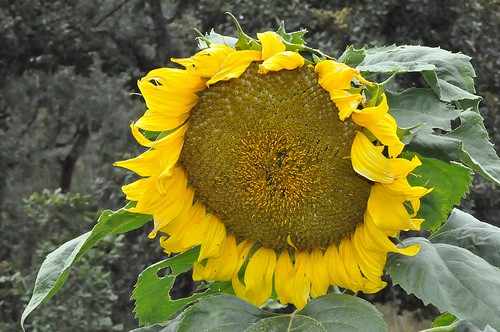flower: (107, 29, 436, 310)
